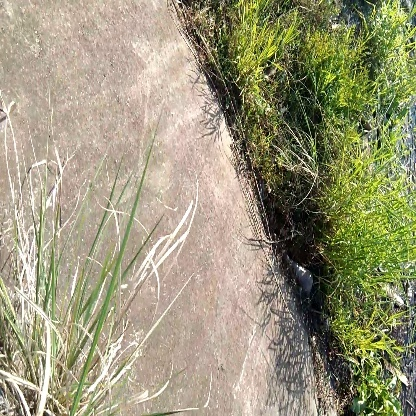grass: (348, 182, 412, 286)
